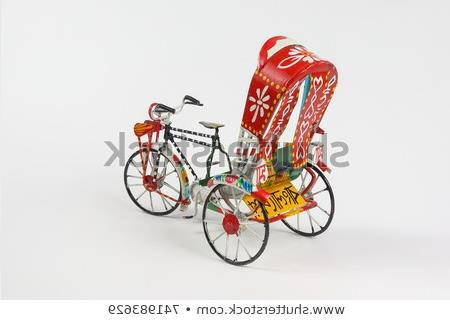Rickshaw: (132, 21, 335, 266)
